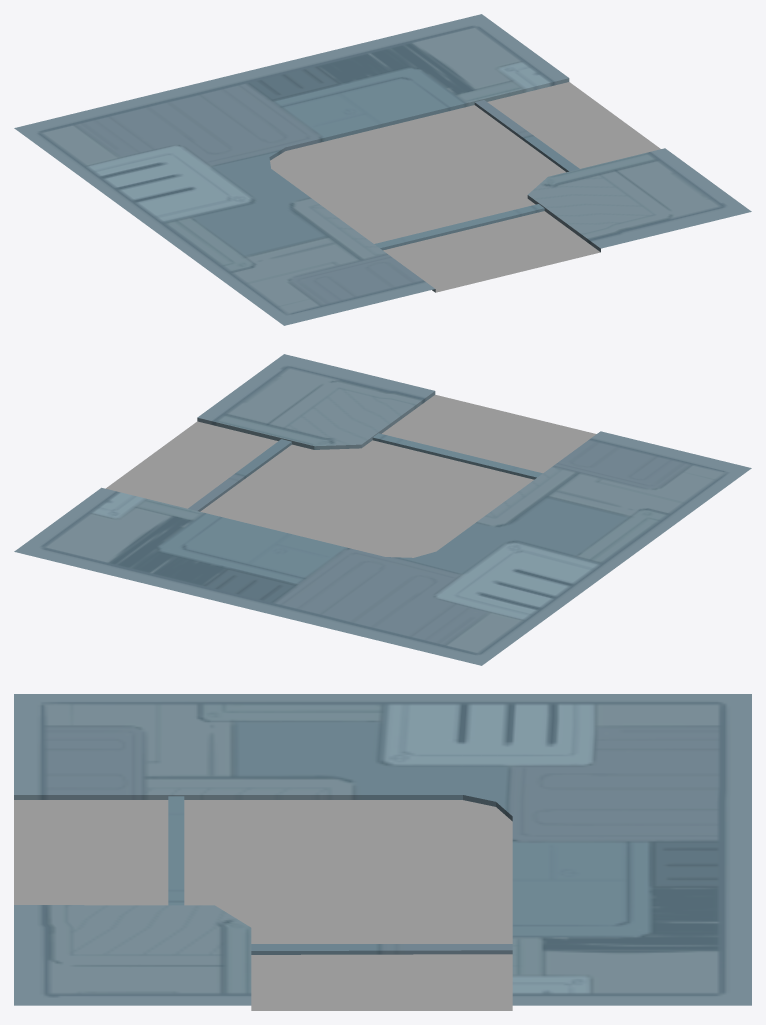
Rendered from Floor1_Corner.fbx.
3 views of the same model, one above another, from view 1: azimuth 30°, elevation 25°; view 2: azimuth 150°, elevation 25°; view 3: azimuth 270°, elevation 25° (orthographic). The views are drawn at different scales.
Parts seen in each view (by area): view 1: Floor1_Corner; view 2: Floor1_Corner; view 3: Floor1_Corner.
Part boxes in pixels (left/top/right/bottom): Floor1_Corner: left=14, top=14, right=751, bottom=325; Floor1_Corner: left=14, top=354, right=751, bottom=665; Floor1_Corner: left=14, top=694, right=751, bottom=1010.
Bounding box in the file's own units: 153 × 4.45 × 153.
2 materials, 1 textured.
